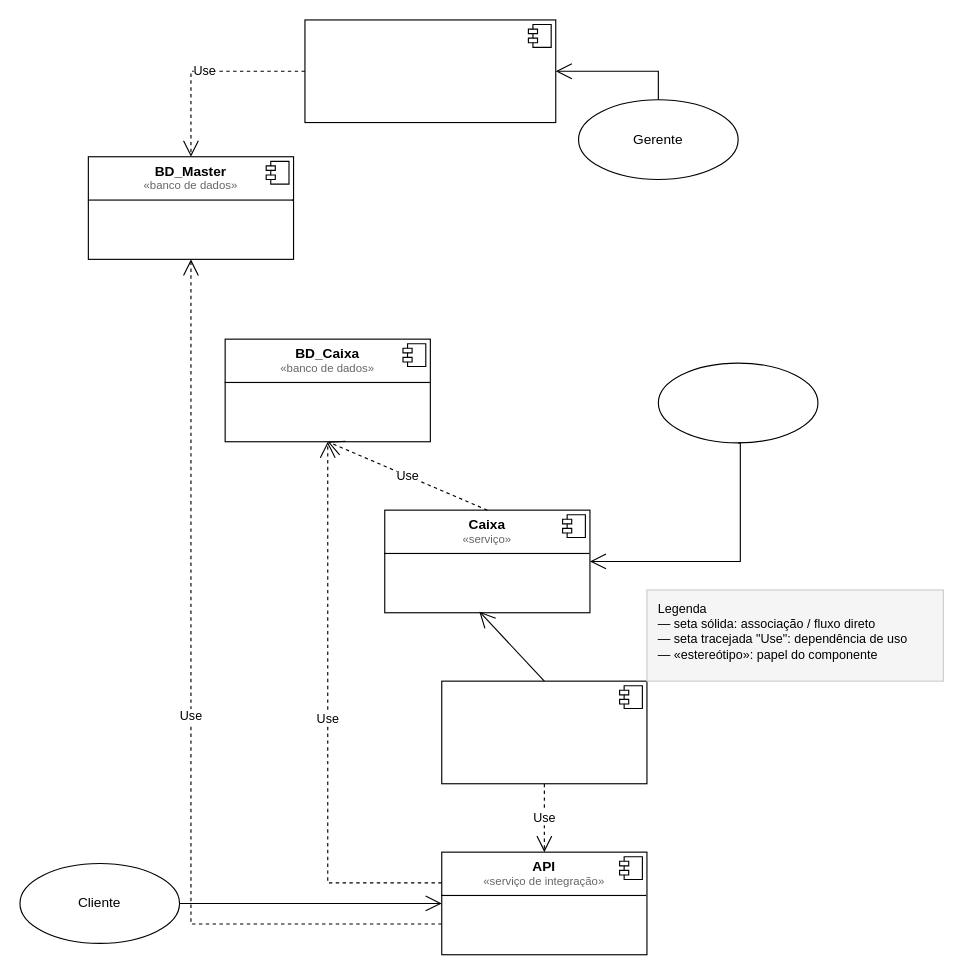
This 963x975 diagram has some shape labels left out. The box of each missing label's shape, as (x1, y1, x2, y2) in pixels:
Operador: (657, 362, 818, 443)
ServicoAdministrativo «serviço»: (304, 19, 556, 123)
WebApp «aplicação web»: (441, 680, 647, 784)
